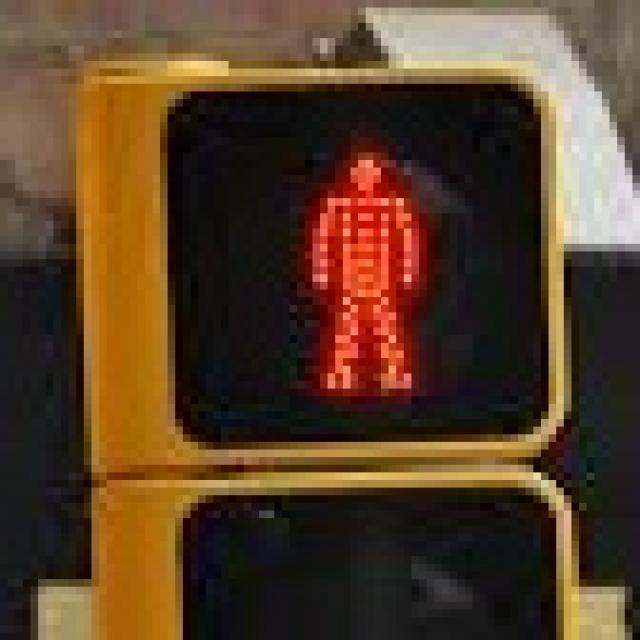red-crossing: (237, 106, 472, 420)
